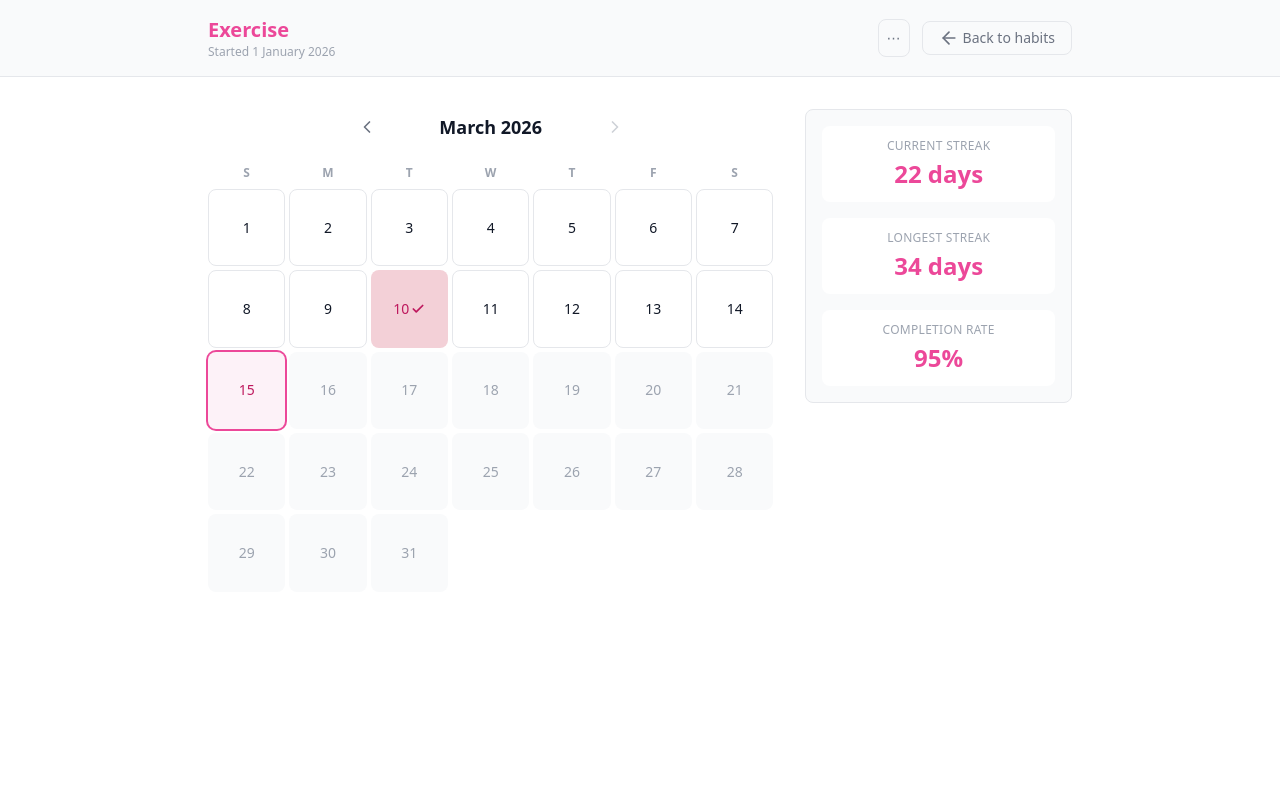
Scenario: HabitCalendarPage › shows undo toast after clicking a marked day
Expected: the heading "Exercise" is shown, [208,16,289,44]
Click the cell "10" at (409, 309), box [371,270,448,348]
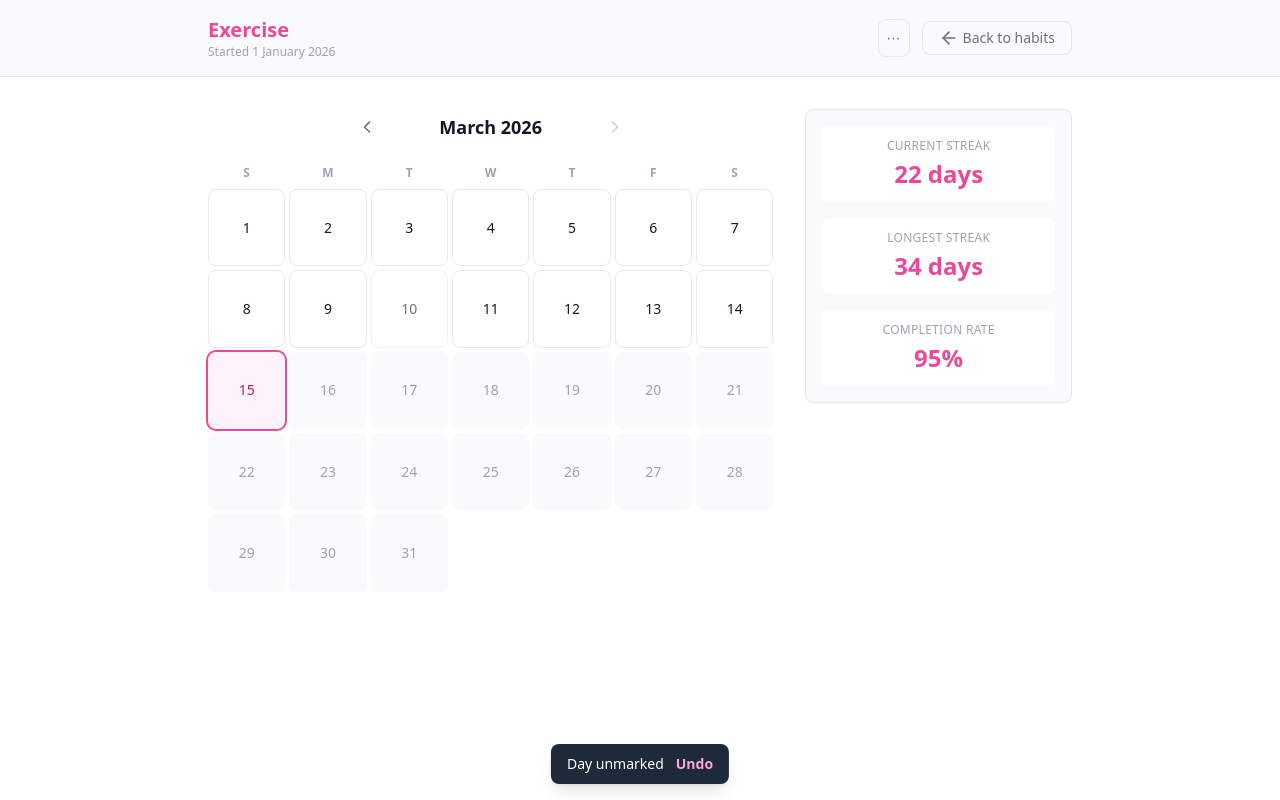
Expected: the text "Day unmarked" is shown, [567,754,664,774]
Expected: the button "Undo" is shown, [676,754,713,774]
